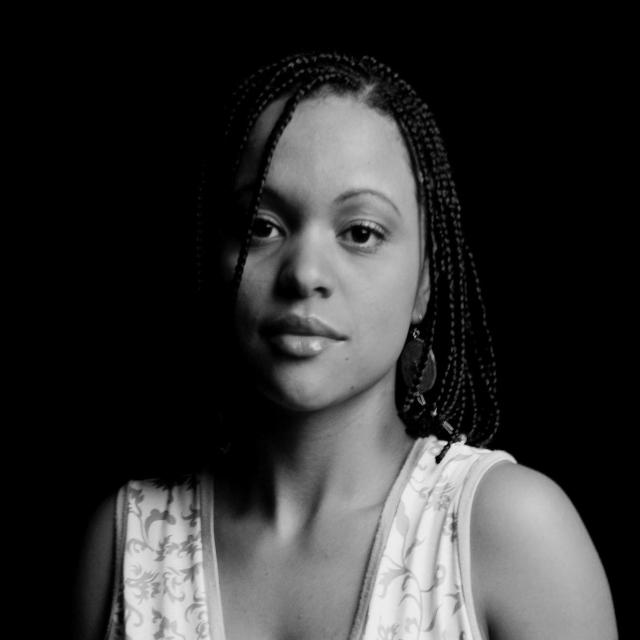no-glass: (233, 205, 400, 257)
